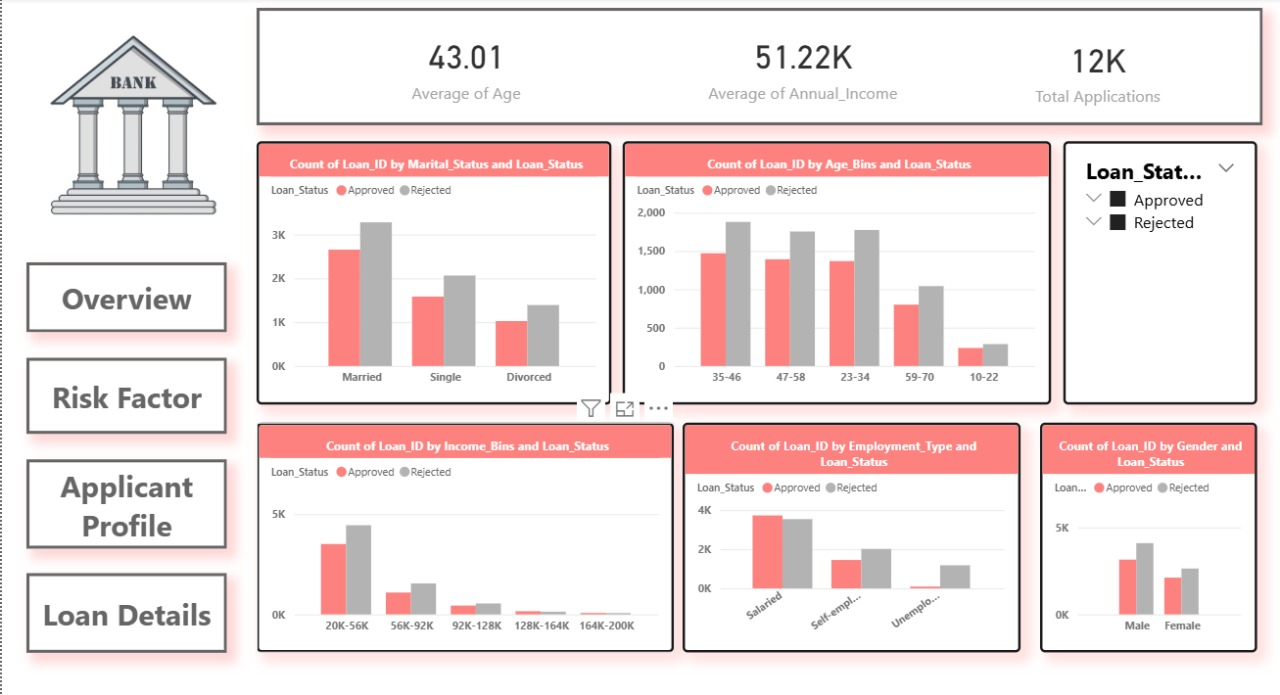

The page's visual inventory and layout, read from the dashboard file:
{"tool":"powerbi","page":{"name":"Page 3","canvas":[1280,720],"ordinal":2},"visuals":[{"type":"image","box":[8.6,0,245.8,253.1],"z":0},{"type":"actionButton","box":[24.1,264.2,200.3,70],"z":1000},{"type":"actionButton","box":[24.1,359.5,200.3,76],"z":2000},{"type":"actionButton","box":[24.1,460.9,200.3,89.3],"z":3000},{"type":"actionButton","box":[24.1,574.3,200.3,79.6],"z":4000},{"type":"card","fields":{"Values":["Avg(clean_data.Age)"]},"box":[343.6,17.1,240.9,101.5],"z":5000},{"type":"card","fields":{"Values":["Avg(clean_data.Annual_Income)"]},"box":[671.3,17.1,258,101.5],"z":6000},{"type":"card","fields":{"Values":["clean_data.Total Applications"]},"box":[979.5,23.2,231.1,95.4],"z":7000},{"type":"actionButton","box":[254.3,9.8,1005.2,117.4],"z":8000},{"type":"clusteredColumnChart","fields":{"Category":["clean_data.Marital_Status"],"Y":["CountNonNull(clean_data.Loan_ID)"],"Series":["clean_data.Loan_Status"]},"box":[254.3,143.1,354.6,262.9],"z":9000},{"type":"clusteredColumnChart","fields":{"Series":["clean_data.Loan_Status"],"Category":["clean_data.Age_Bins"],"Y":["CountNonNull(clean_data.Loan_ID)"]},"box":[620,143.1,428,262.9],"z":10000},{"type":"slicer","fields":{"Values":["clean_data.Loan_Status","clean_data.Employment_Type","clean_data.Credit_Score","clean_data.Debt_to_Income_Ratio","clean_data.Loan_Term_Range"]},"box":[1060.2,143.1,193.2,262.9],"z":11000},{"type":"clusteredColumnChart","fields":{"Category":["clean_data.Income_Bins"],"Y":["CountNonNull(clean_data.Loan_ID)"],"Series":["clean_data.Loan_Status"]},"box":[254.3,424.3,417,229.9],"z":12000},{"type":"clusteredColumnChart","fields":{"Category":["clean_data.Employment_Type"],"Y":["CountNonNull(clean_data.Loan_ID)"],"Series":["clean_data.Loan_Status"]},"box":[679.9,424.3,337.5,229.9],"z":13000},{"type":"clusteredColumnChart","fields":{"Category":["clean_data.Gender"],"Y":["CountNonNull(clean_data.Loan_ID)"],"Series":["clean_data.Loan_Status"]},"box":[1037,424.3,216.4,229.9],"z":14000}]}

Visuals, with their boxes in screenshot pixels (x1, y1, x2, y2):
image: (left=15, top=0, right=257, bottom=249)
actionButton: (left=30, top=260, right=228, bottom=329)
actionButton: (left=30, top=354, right=228, bottom=429)
actionButton: (left=30, top=454, right=228, bottom=542)
actionButton: (left=30, top=565, right=228, bottom=644)
card - Avg(clean_data.Age): (left=345, top=17, right=582, bottom=117)
card - Avg(clean_data.Annual_Income): (left=668, top=17, right=922, bottom=117)
card - clean_data.Total Applications: (left=971, top=23, right=1199, bottom=117)
actionButton: (left=257, top=10, right=1247, bottom=125)
clusteredColumnChart - clean_data.Marital_Status x CountNonNull(clean_data.Loan_ID): (left=257, top=141, right=606, bottom=400)
clusteredColumnChart - clean_data.Loan_Status x clean_data.Age_Bins: (left=617, top=141, right=1038, bottom=400)
slicer - clean_data.Loan_Status x clean_data.Employment_Type: (left=1050, top=141, right=1241, bottom=400)
clusteredColumnChart - clean_data.Income_Bins x CountNonNull(clean_data.Loan_ID): (left=257, top=418, right=668, bottom=644)
clusteredColumnChart - clean_data.Employment_Type x CountNonNull(clean_data.Loan_ID): (left=676, top=418, right=1008, bottom=644)
clusteredColumnChart - clean_data.Gender x CountNonNull(clean_data.Loan_ID): (left=1028, top=418, right=1241, bottom=644)
